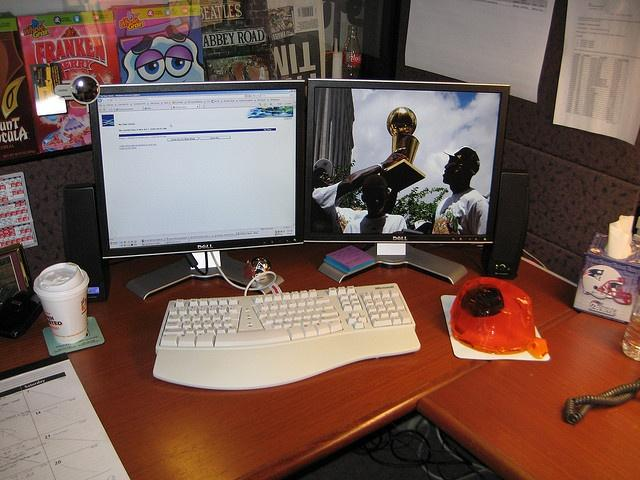AIO PC-Monitor-TV: (86, 78, 306, 259), (304, 75, 510, 247)
